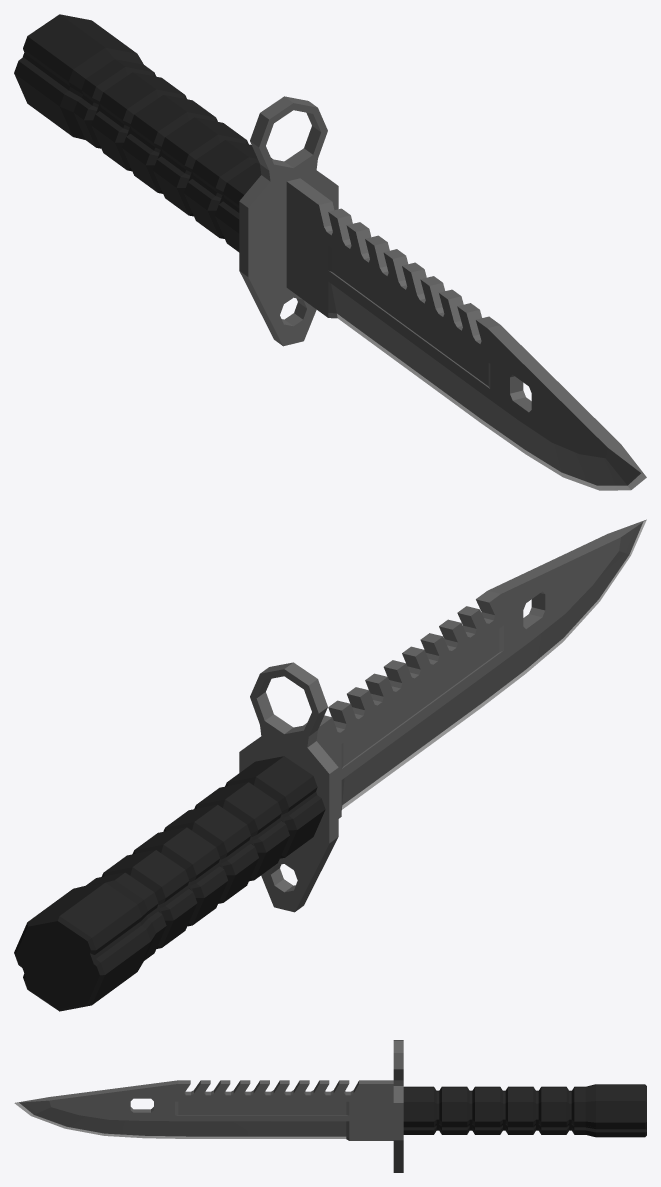
The model's file is Knife.glb.
3 views of the same model, one above another, from view 1: azimuth 30°, elevation 25°; view 2: azimuth 150°, elevation 25°; view 3: azimuth 270°, elevation 25° (orthographic). The views are drawn at different scales.
Parts seen in each view (by area): view 1: Knife; view 2: Knife; view 3: Knife.
Boxes of the visible parts, box(x1,y1,x2,y2) form: Knife: box(14, 14, 646, 490); Knife: box(14, 519, 646, 1011); Knife: box(14, 1040, 646, 1172).
Size of the model in its own units: 0.0316 by 0.0797 by 0.3536.
Materials: 1 (1 with a texture image).
